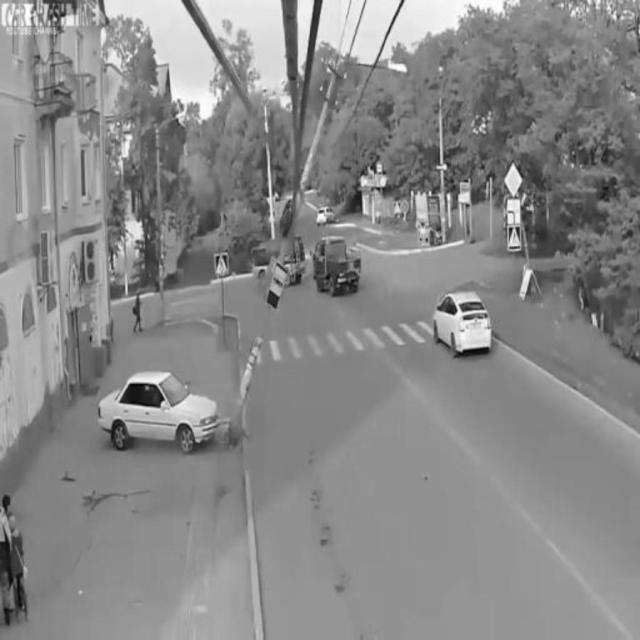person: (1, 494, 31, 626), (128, 285, 145, 337)
vehicle: (94, 370, 220, 452), (430, 287, 496, 360), (310, 239, 366, 300), (315, 206, 339, 226)
